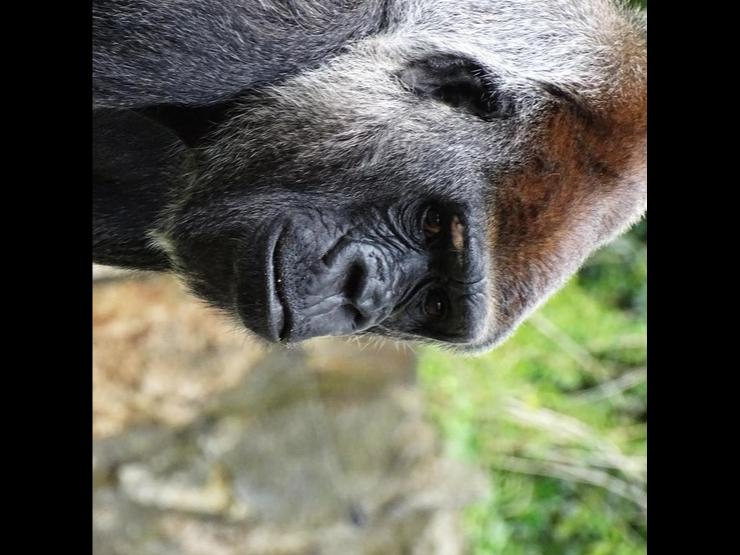gorille_Autres: (92, 0, 645, 354)
